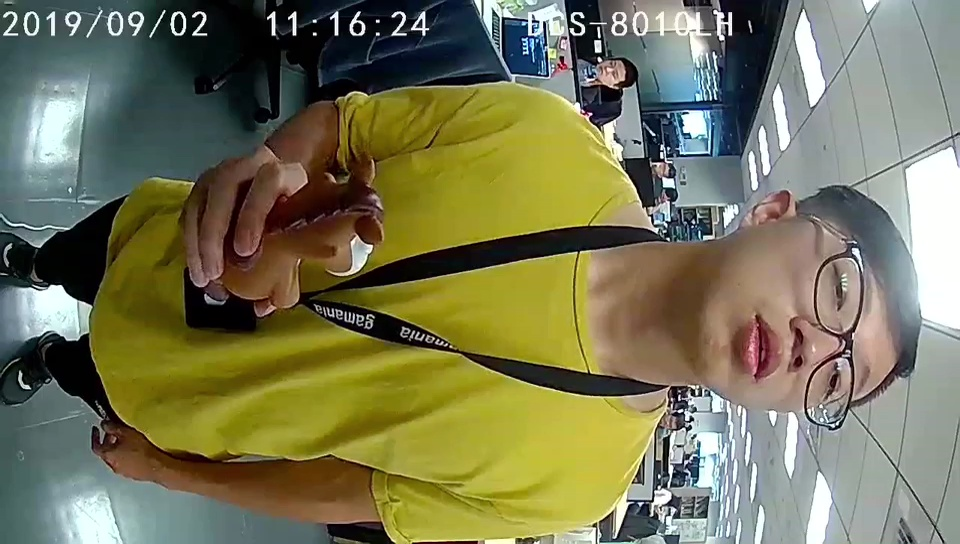horse: (281, 157, 386, 276)
